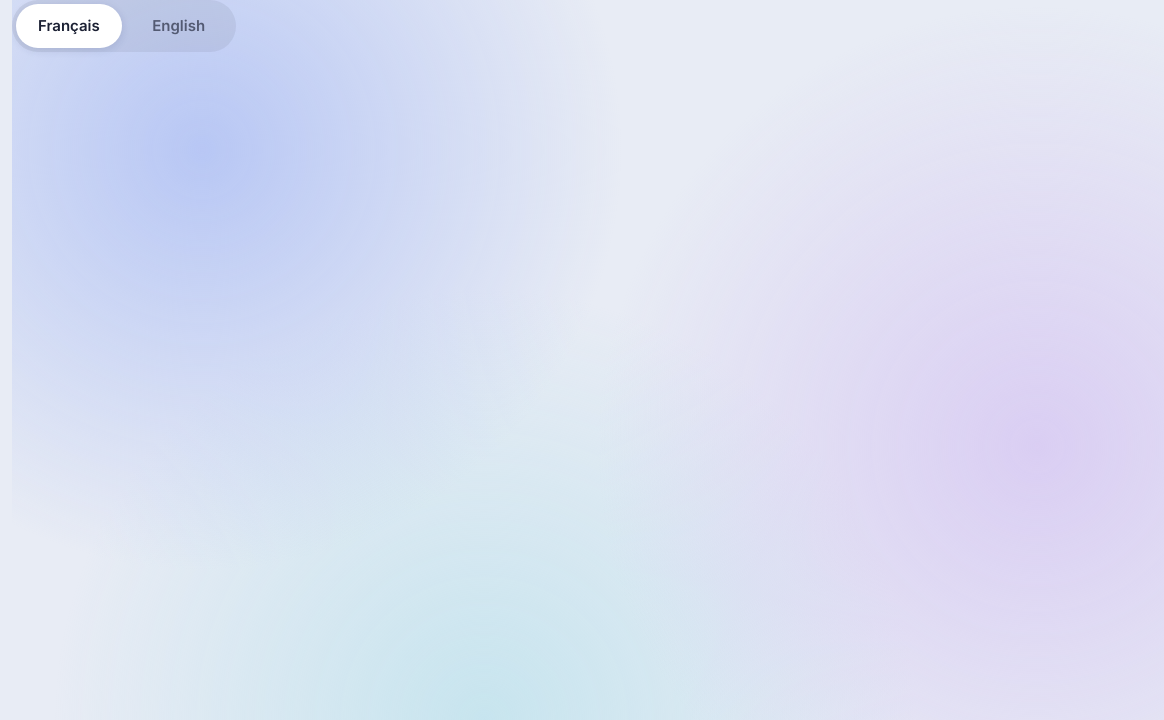
Test case: choix de la langue › affiche un message si l'enregistrement échoue
Step 1. Click the button "English" → [179, 26], box x1=126 y1=4 x2=232 y2=48
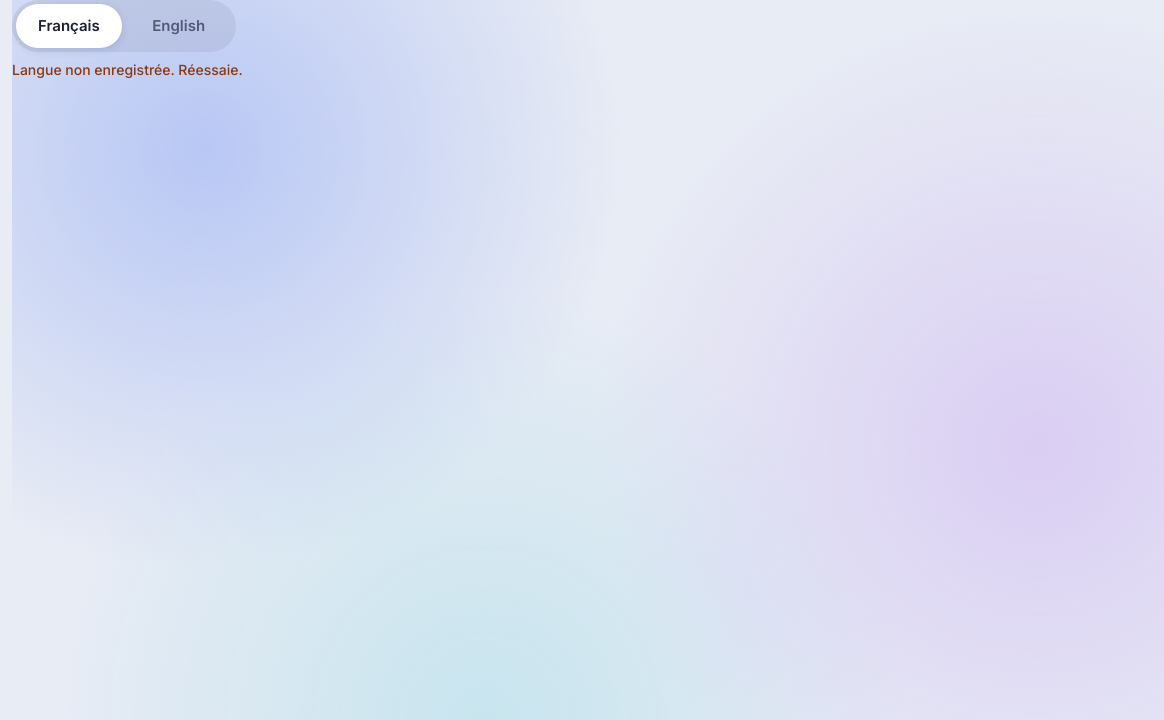
expect the message reads "Langue non enregistrée. Réessaie.": met, box x1=12 y1=61 x2=243 y2=78
